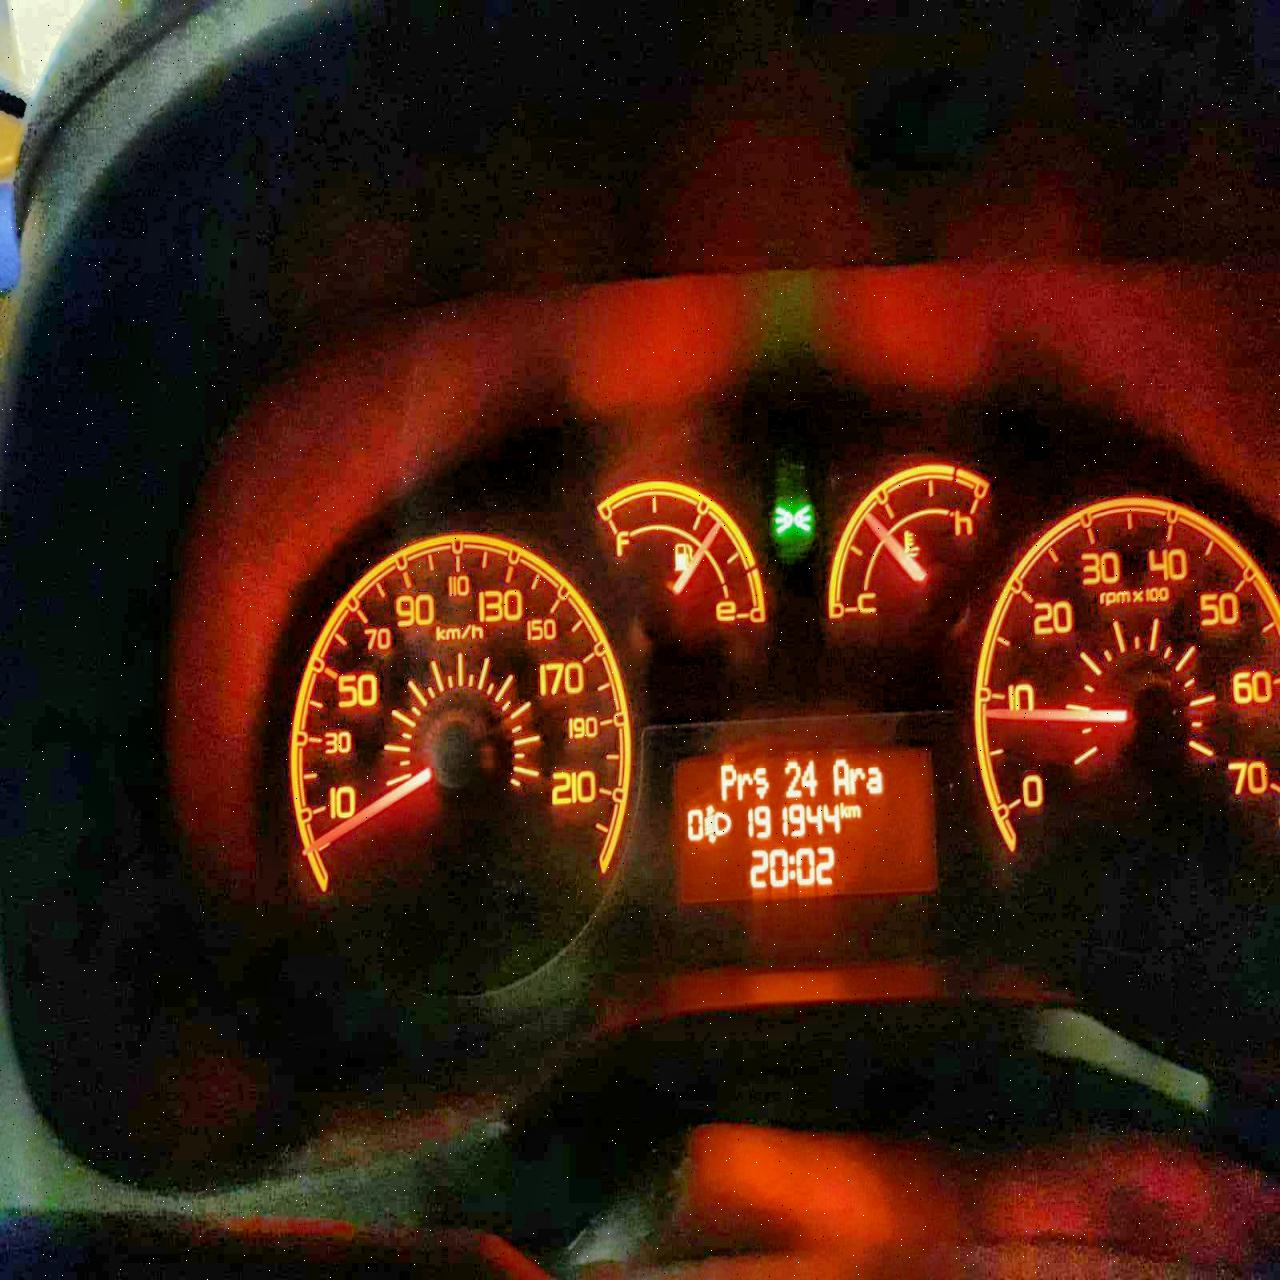0: (795, 845, 815, 886), (769, 846, 788, 886), (685, 805, 703, 844)
1: (745, 805, 754, 839), (781, 802, 788, 840)
2: (816, 845, 835, 886), (749, 846, 768, 887), (784, 756, 801, 798)
4: (802, 756, 821, 796), (822, 799, 839, 835), (805, 798, 822, 836)
9: (789, 802, 804, 836), (755, 804, 770, 837)
X: (832, 756, 850, 795), (720, 762, 735, 802), (865, 763, 883, 795), (754, 767, 768, 799), (735, 771, 751, 799), (850, 764, 864, 792), (847, 803, 860, 818), (789, 852, 795, 881), (840, 799, 847, 818)
odometer: (666, 728, 940, 914)
